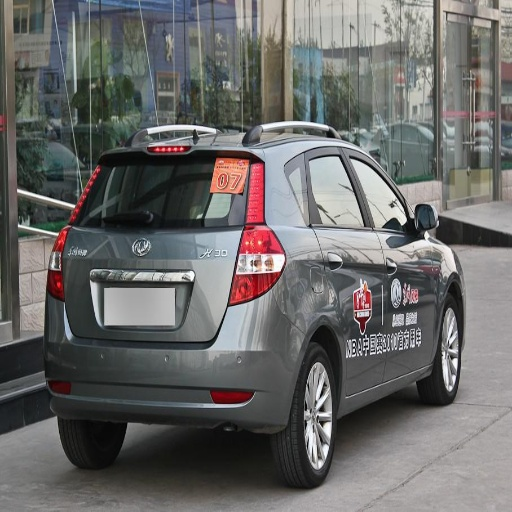back_bumper: (42, 289, 305, 433)
back_right_door: (305, 146, 383, 395)
tailgate: (64, 153, 243, 339)
